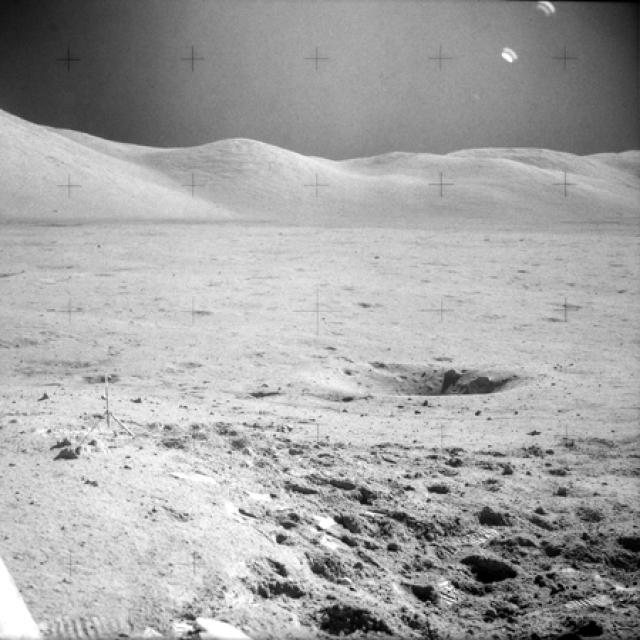artifact: (90, 356, 141, 443)
crater: (303, 348, 524, 402)
rock: (43, 432, 87, 462)
